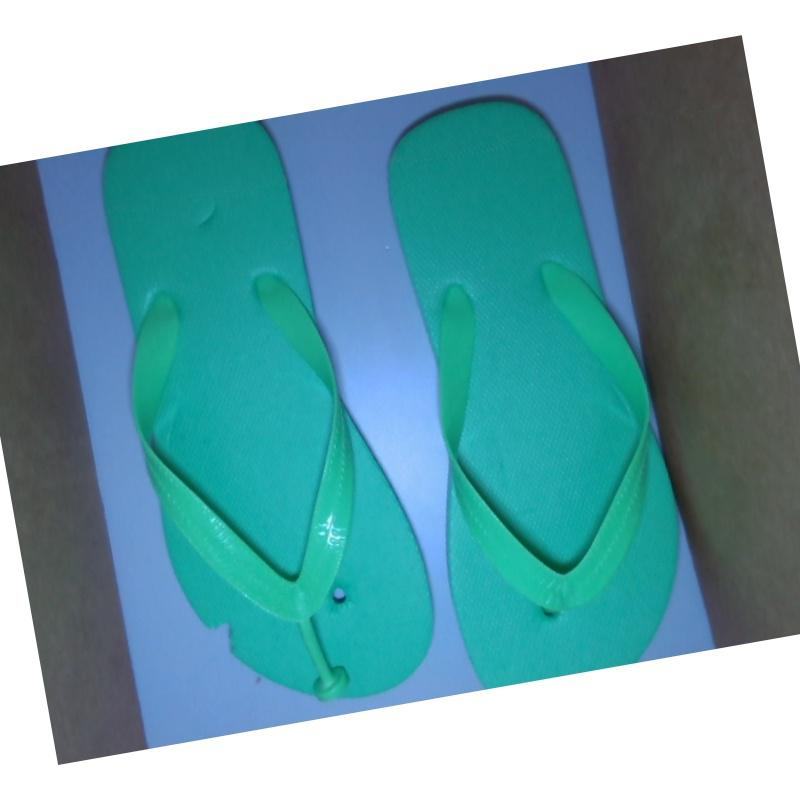chipped: (193, 601, 239, 670)
detached: (296, 644, 368, 708)
